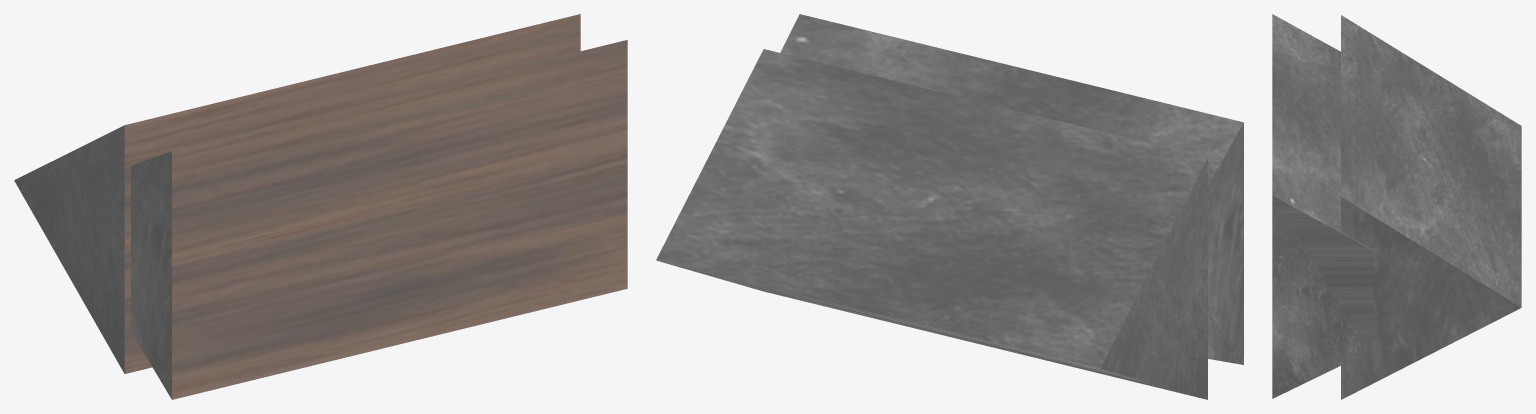
The model's file is Button-CRT-TV.glb.
3 renders of one model, left to right at view 1: azimuth 30°, elevation 25°; view 2: azimuth 150°, elevation 25°; view 3: azimuth 270°, elevation 25°, orthographic. The views are drawn at different scales.
Parts seen in each view (by area): view 1: Cube.001, Cube.003; view 2: Cube.003, Cube.001; view 3: Cube.003, Cube.001.
Part boxes in pixels (bbox=[...]): Cube.001: bbox=[131, 40, 627, 399]; Cube.003: bbox=[14, 14, 580, 373]; Cube.003: bbox=[656, 49, 1207, 399]; Cube.001: bbox=[780, 14, 1243, 364]; Cube.003: bbox=[1341, 15, 1521, 399]; Cube.001: bbox=[1272, 14, 1373, 398].
Size of the model in its own units: 1.73 by 0.906 by 0.9911.
Materials: 2 (2 with a texture image).
